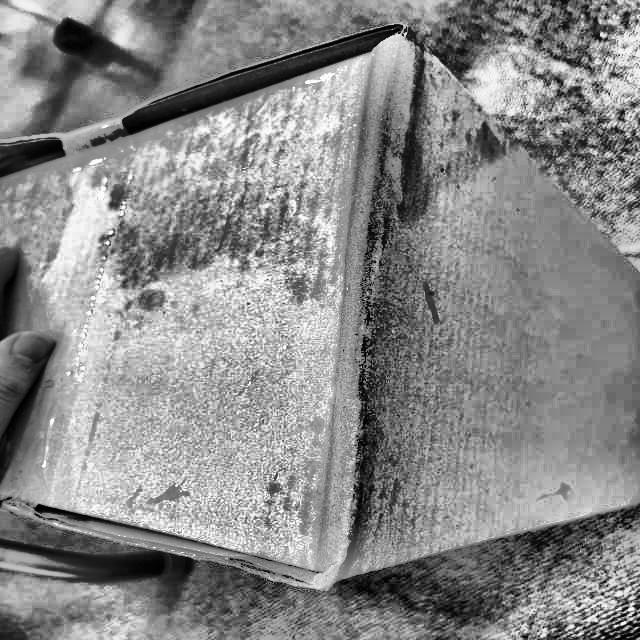box: (0, 12, 639, 606)
wet: (88, 74, 466, 314)
